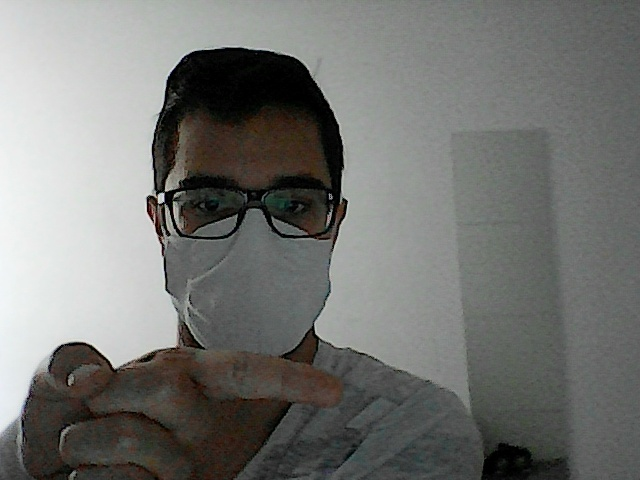left: (1, 334, 378, 480)
